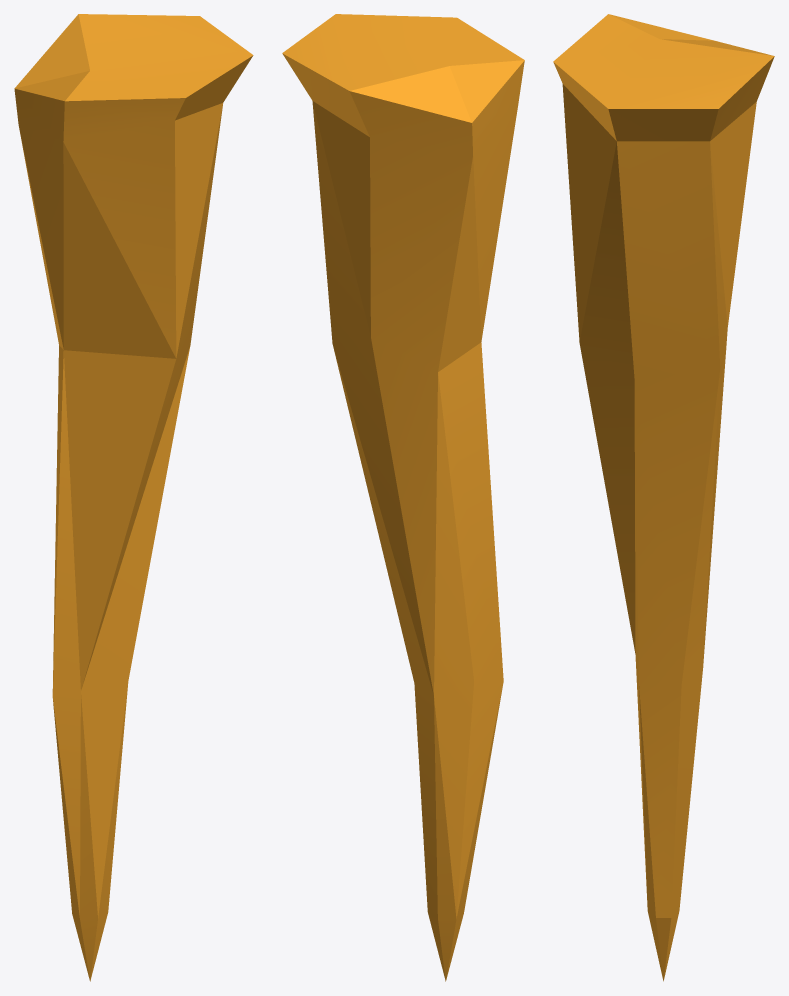
Rendered from SM_Icicle_A.fbx.
3 views of the same model, side by side, from view 1: azimuth 30°, elevation 25°; view 2: azimuth 150°, elevation 25°; view 3: azimuth 270°, elevation 25° (orthographic). The views are drawn at different scales.
Visible parts, largest first — view 1: icicle-a; view 2: icicle-a; view 3: icicle-a.
Part boxes in pixels (bbox=[...]): icicle-a: bbox=[14, 14, 253, 981]; icicle-a: bbox=[282, 14, 524, 981]; icicle-a: bbox=[553, 14, 774, 981].
Size of the model in its own units: 0.3507 by 1.63 by 0.3459.
